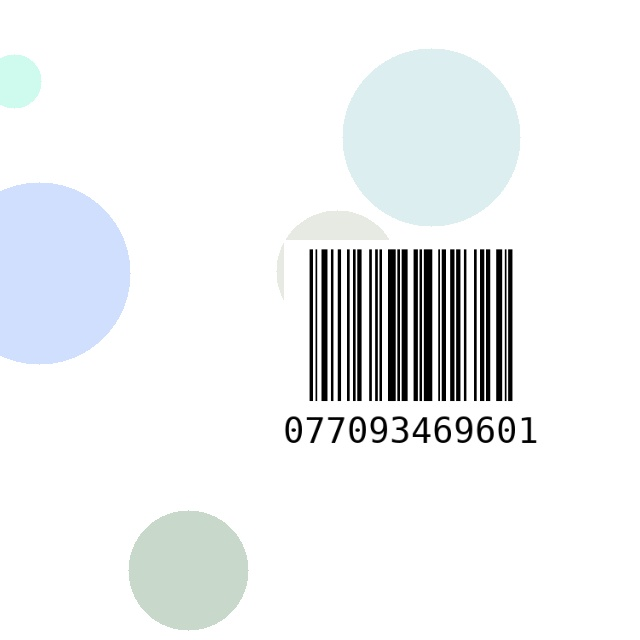barcode: (284, 240, 538, 479)
